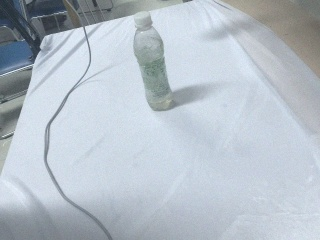bottle: (131, 10, 176, 112)
